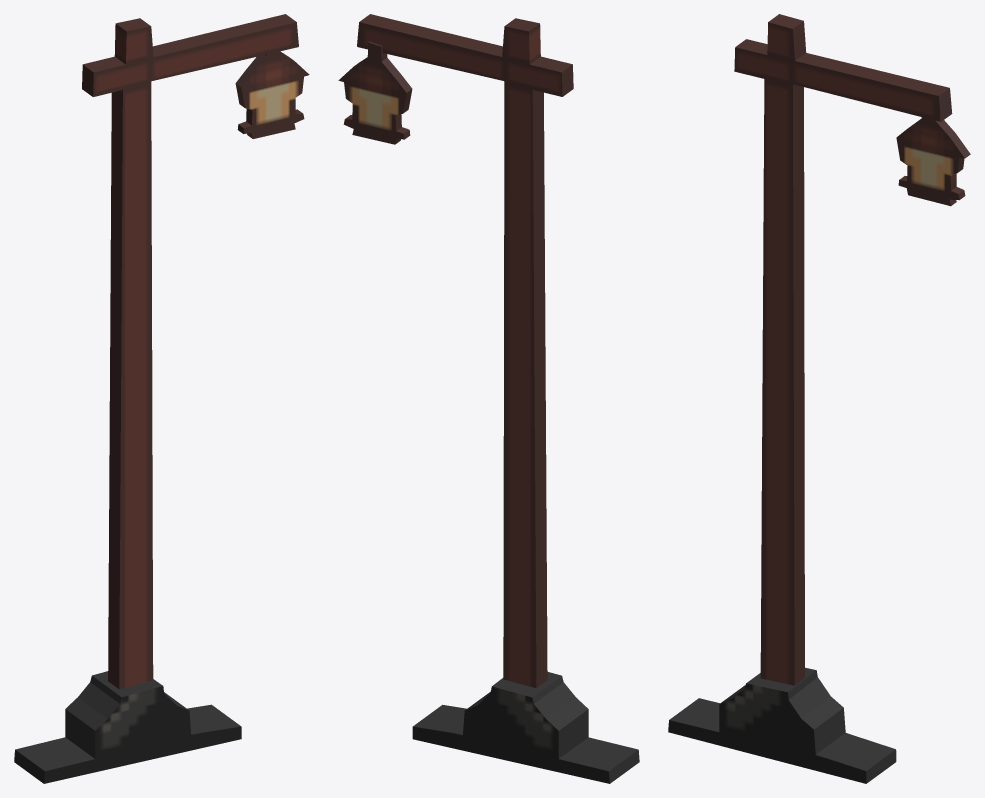
The model's file is Lamp.fbx.
3 renders of one model, left to right at view 1: azimuth 30°, elevation 25°; view 2: azimuth 150°, elevation 25°; view 3: azimuth 330°, elevation 25°, orthographic.
Visible parts, largest first — view 1: objec 3000pxt.013; view 2: objec 3000pxt.013; view 3: objec 3000pxt.013.
Boxes of the visible parts, x1,y1,x2,y2 form: objec 3000pxt.013: (14, 14, 309, 783); objec 3000pxt.013: (338, 14, 639, 783); objec 3000pxt.013: (668, 14, 970, 783).
Bounding box in the file's own units: 106 × 261 × 19.44.
